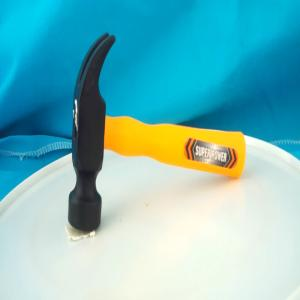martelo: (66, 32, 248, 233)
